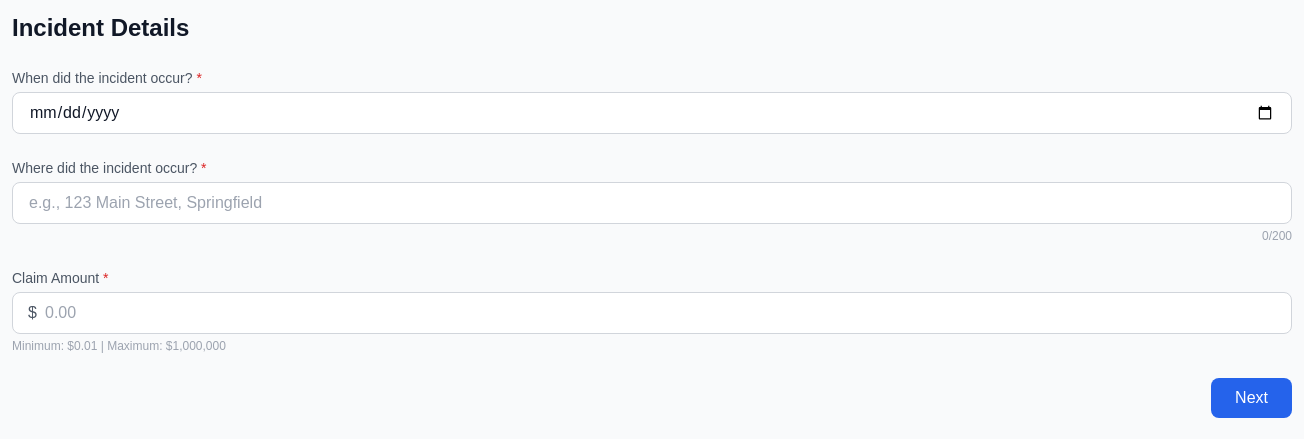
Test: WizardStep1 › Field Validation › should show error for location shorter than 5 characters
Type "ABC" into the field labelled "Where did the incident occur? *" at x=652, y=203, box x1=12 y1=182 x2=1292 y2=224
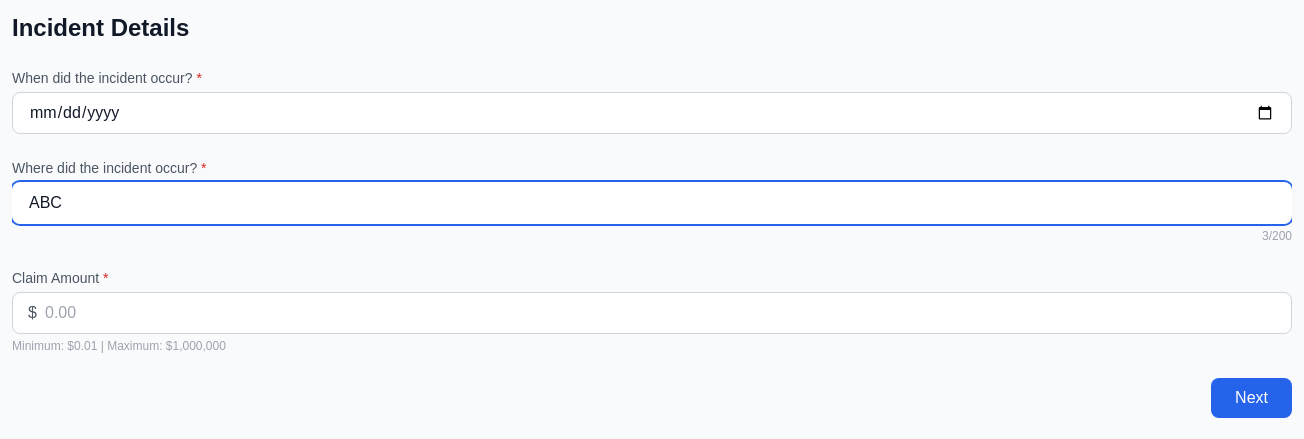
Press Tab
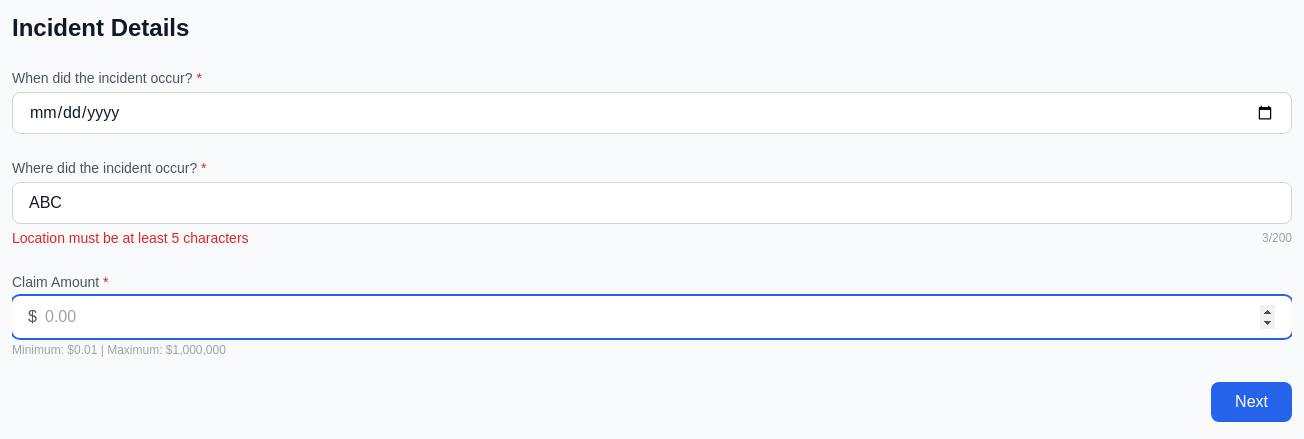
Now the text "Location must be at least 5 characters" is shown, box x1=12 y1=228 x2=249 y2=248
